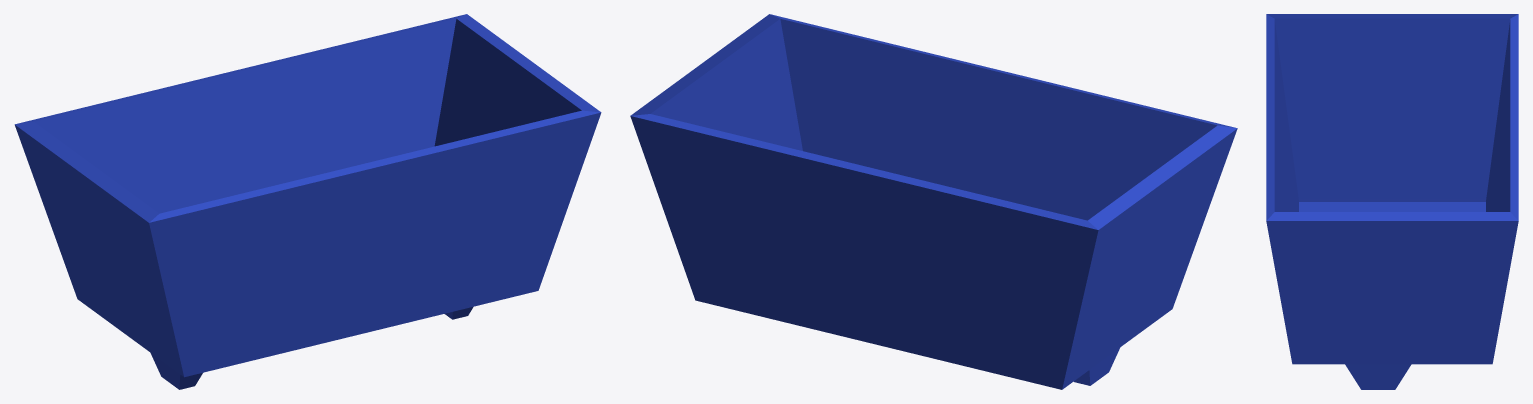
Rendered from MSH_pot_rectangulaire.fbx.
3 views of the same model, side by side, from view 1: azimuth 30°, elevation 25°; view 2: azimuth 150°, elevation 25°; view 3: azimuth 270°, elevation 25° (orthographic). The views are drawn at different scales.
Parts seen in each view (by area): view 1: pot rectangulaire_low; view 2: pot rectangulaire_low; view 3: pot rectangulaire_low.
Boxes of the visible parts, left/top/right/bottom form: pot rectangulaire_low: left=14, top=14, right=601, bottom=389; pot rectangulaire_low: left=630, top=14, right=1237, bottom=389; pot rectangulaire_low: left=1266, top=14, right=1518, bottom=389.
Bounding box in the file's own units: 18.2 × 8.56 × 9.37.
